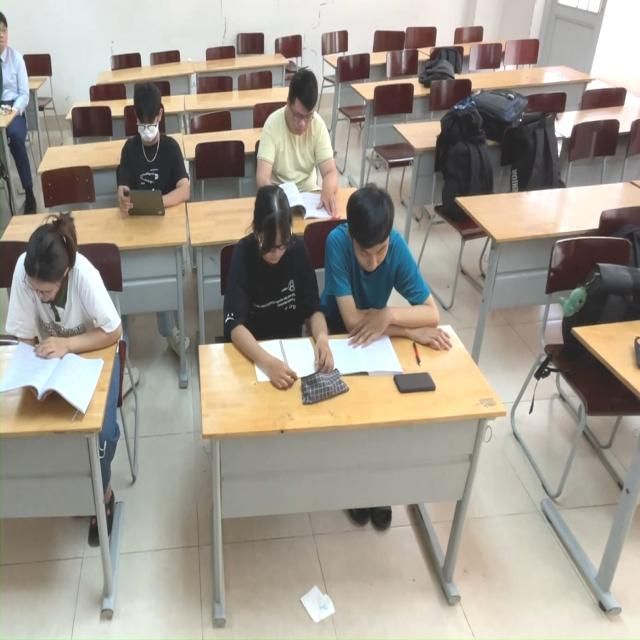read: (2, 195, 115, 419), (219, 194, 323, 393), (332, 175, 422, 390), (110, 82, 183, 223), (289, 82, 331, 219)
